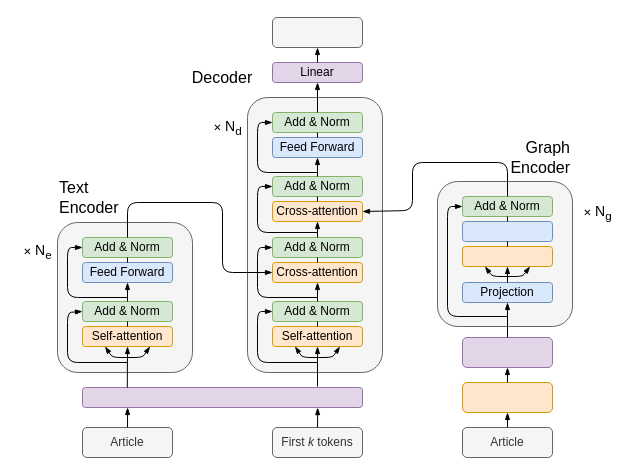
This 634x475 diagram has some shape labels left out. The centre of each missing label's shape, as x and y in pixels:
Aggregation: pixel 507 231
Edge-attention: pixel 507 256
Embeddings: pixel 222 397
Nodes embeddings: pixel 507 352
Summary (k+1)-th token: pixel 317 32
Triplets extraction: pixel 507 397
